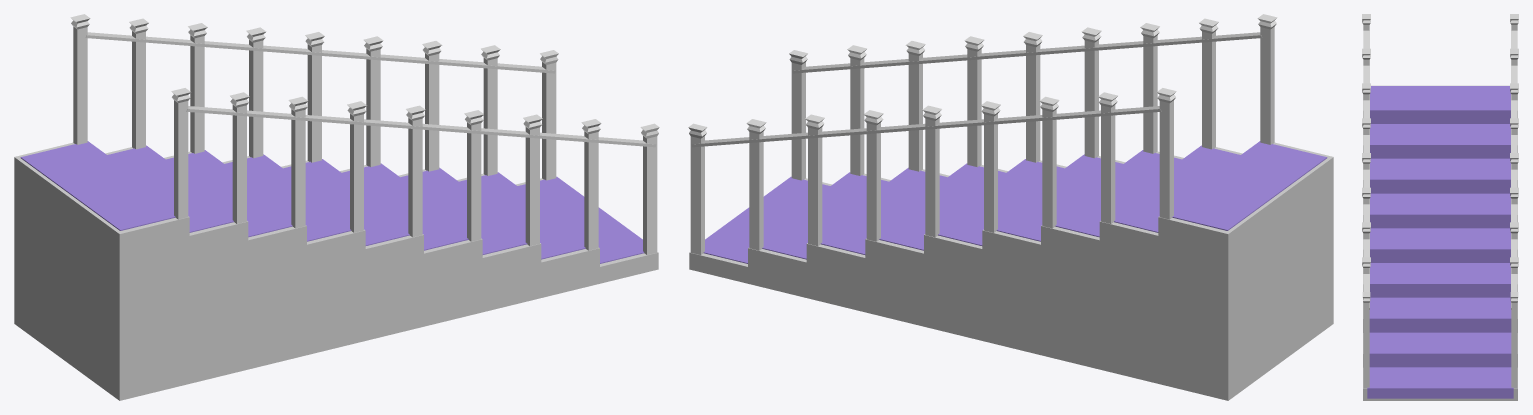
File: stairs1.glb
3 views of the same model, side by side, from view 1: azimuth 30°, elevation 25°; view 2: azimuth 150°, elevation 25°; view 3: azimuth 270°, elevation 25° (orthographic). The views are drawn at different scales.
Visible parts, largest first — view 1: stairs2.001, railing_posts, railing; view 2: stairs2.001, railing_posts, railing; view 3: stairs2.001, railing_posts, railing.
Boxes of the visible parts, x1,y1,x2,y2 form: stairs2.001: (14,141,658,400); railing_posts: (70,14,659,254); railing: (86,32,656,147); stairs2.001: (689,141,1333,400); railing_posts: (688,14,1277,254); railing: (691,32,1261,147); stairs2.001: (1363,85,1517,400); railing_posts: (1362,14,1518,388); railing: (1363,30,1517,309).
Size of the model in its own units: 6.07 by 3.13 by 2.08.
